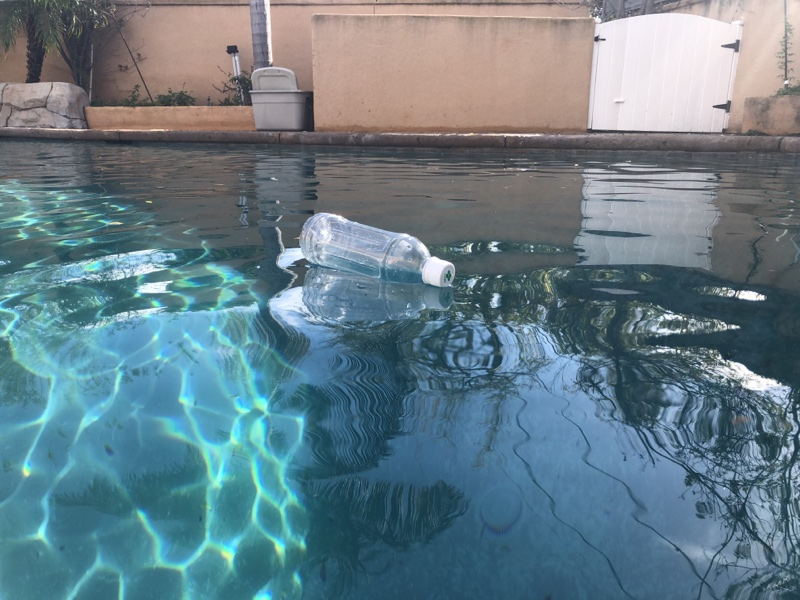Plastic Bottle: (296, 210, 458, 295)
